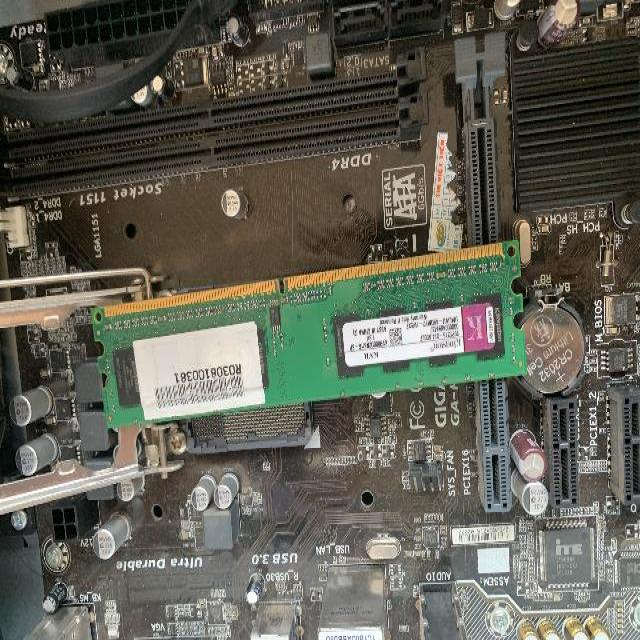Mainboard: (0, 0, 640, 639)
RAM: (86, 238, 526, 431)
